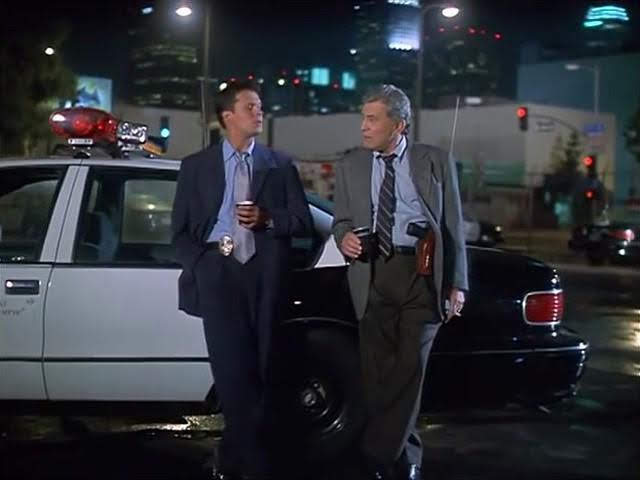gun: (404, 215, 447, 280)
